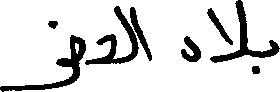X: (0, 16, 85, 91), (211, 0, 247, 67), (117, 1, 135, 68), (99, 2, 115, 68), (137, 15, 151, 65), (182, 31, 198, 66), (269, 35, 279, 61)
